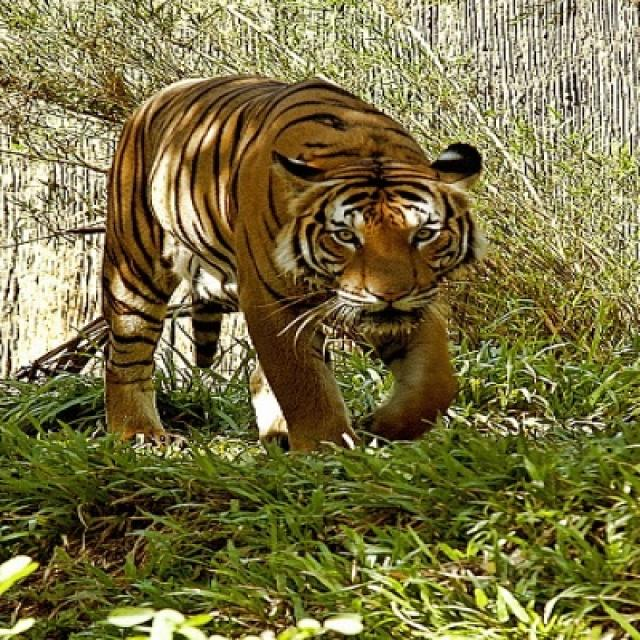Tiger: (101, 75, 482, 450)
